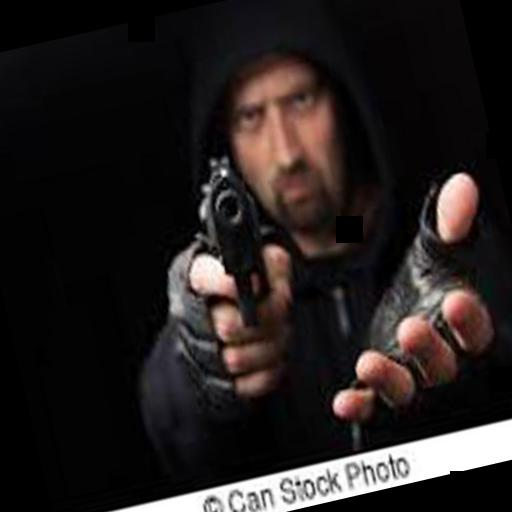Handgun: (182, 140, 286, 332)
